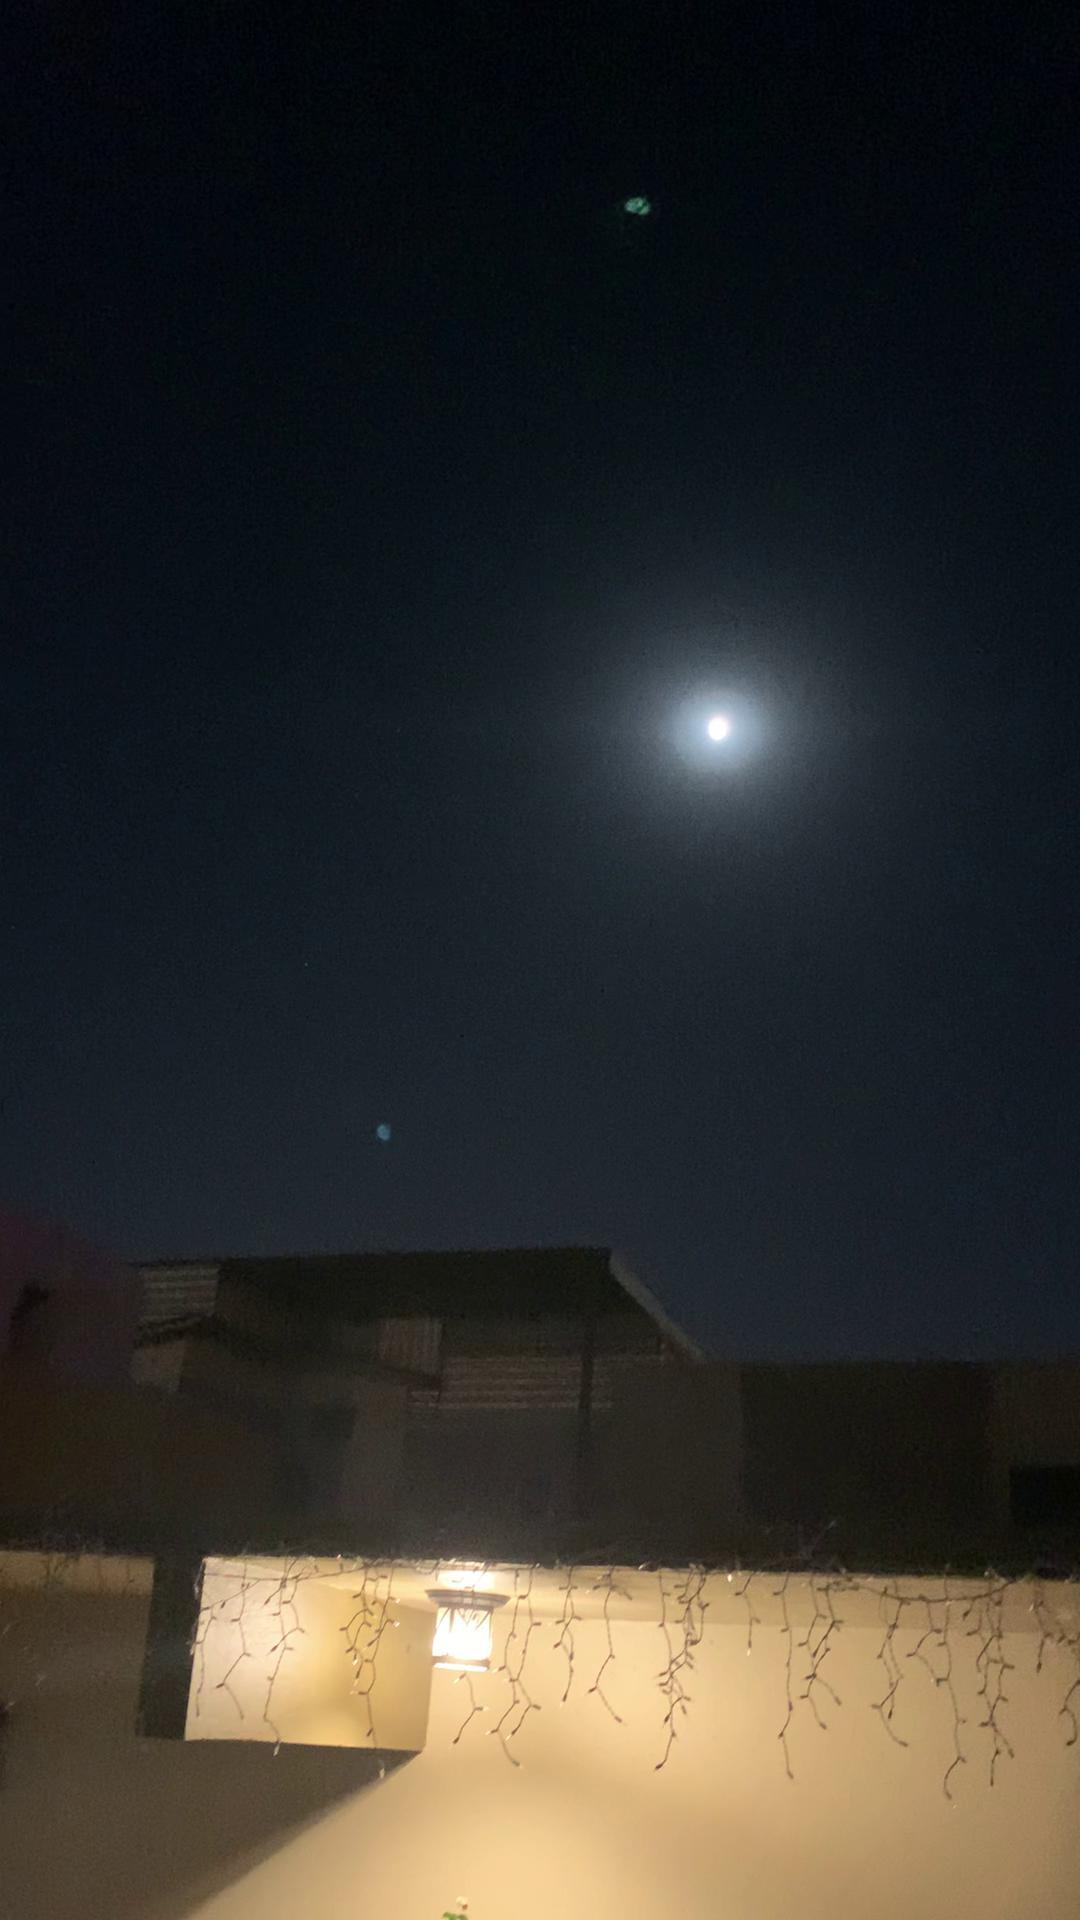moon: (678, 687, 765, 766)
